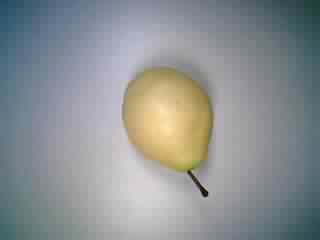pear: (112, 57, 229, 209)
